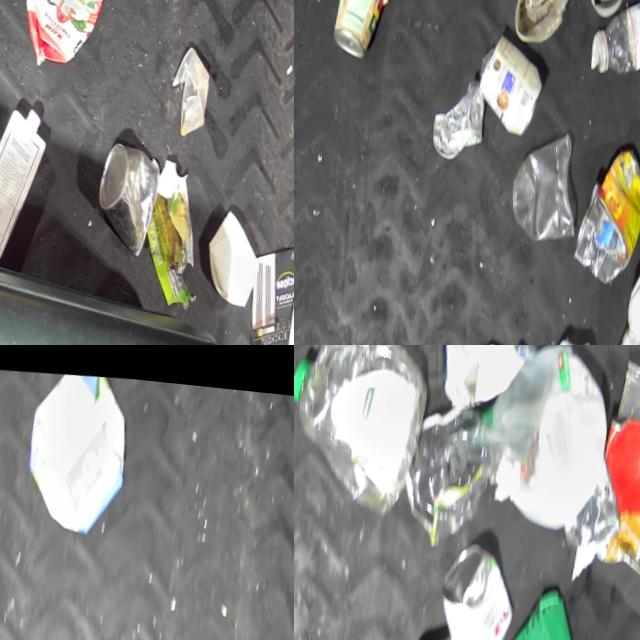can: (445, 529, 531, 640), (475, 25, 550, 139), (98, 133, 171, 250), (575, 171, 638, 283), (599, 401, 640, 573), (568, 450, 634, 547), (431, 74, 497, 162), (325, 0, 397, 61)
milk_jug: (509, 345, 624, 527), (0, 93, 57, 259)
non_white_jug: (294, 345, 443, 520), (18, 0, 122, 68)
plastic_bottle: (588, 0, 640, 68)
